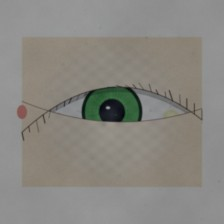pinguecula_lesion: (155, 103, 187, 129)
